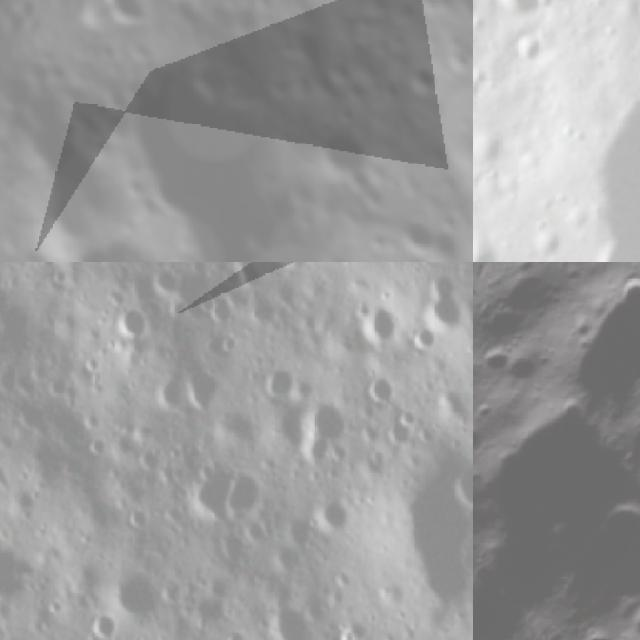crater: (0, 72, 140, 259), (300, 115, 380, 197), (58, 223, 198, 262), (176, 40, 244, 112), (273, 20, 336, 85), (388, 204, 452, 262), (390, 54, 448, 111), (304, 393, 356, 449), (354, 294, 404, 348), (228, 464, 273, 522), (113, 0, 167, 42), (606, 262, 640, 327), (185, 364, 225, 415), (309, 492, 354, 533), (512, 28, 552, 70), (108, 300, 150, 340), (152, 372, 191, 412), (491, 0, 554, 24), (263, 364, 298, 401), (364, 373, 402, 407), (87, 606, 124, 640), (412, 317, 442, 357), (529, 229, 565, 262), (268, 540, 306, 571), (473, 413, 493, 467), (615, 600, 640, 640), (121, 502, 154, 531), (627, 437, 640, 502), (221, 628, 253, 640), (473, 393, 475, 435)
